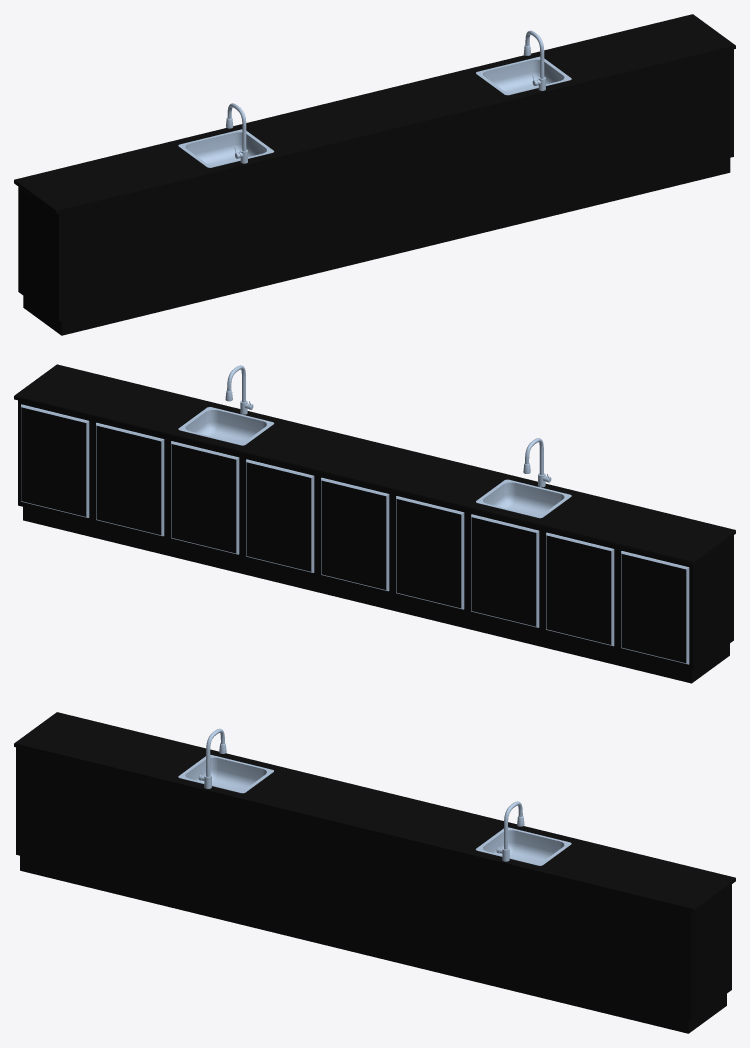
Rendered from COUNTER.glb.
3 renders of one model, top to bottom at view 1: azimuth 30°, elevation 25°; view 2: azimuth 150°, elevation 25°; view 3: azimuth 330°, elevation 25°, orthographic.
Visible parts, largest first — view 1: 11-COUNTER; view 2: 11-COUNTER; view 3: 11-COUNTER.
Part boxes in pixels (x1,y1,x2,y2): 11-COUNTER: [14, 14, 735, 335]; 11-COUNTER: [14, 364, 735, 683]; 11-COUNTER: [14, 712, 735, 1033].
Bounding box in the file's own units: 5.94 × 1.48 × 0.65.
